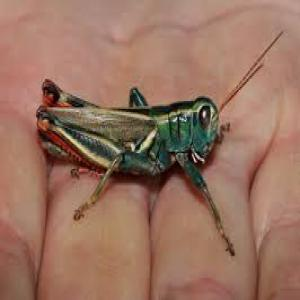locust: (34, 56, 256, 189)
